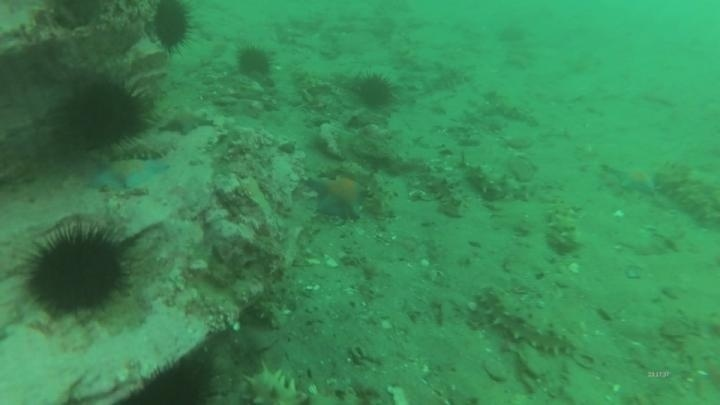echinus: (22, 223, 133, 320), (57, 76, 149, 152), (123, 355, 218, 405), (149, 1, 196, 54), (352, 70, 397, 112), (234, 43, 275, 80)
holothurian: (475, 286, 578, 359), (654, 158, 719, 228), (462, 159, 535, 205), (239, 364, 312, 404), (394, 60, 472, 96), (423, 164, 467, 219), (477, 89, 539, 128), (544, 199, 584, 257), (107, 134, 175, 164), (362, 167, 396, 221)
starfish: (306, 170, 372, 223), (87, 154, 170, 194), (606, 160, 661, 197), (156, 104, 214, 138)
